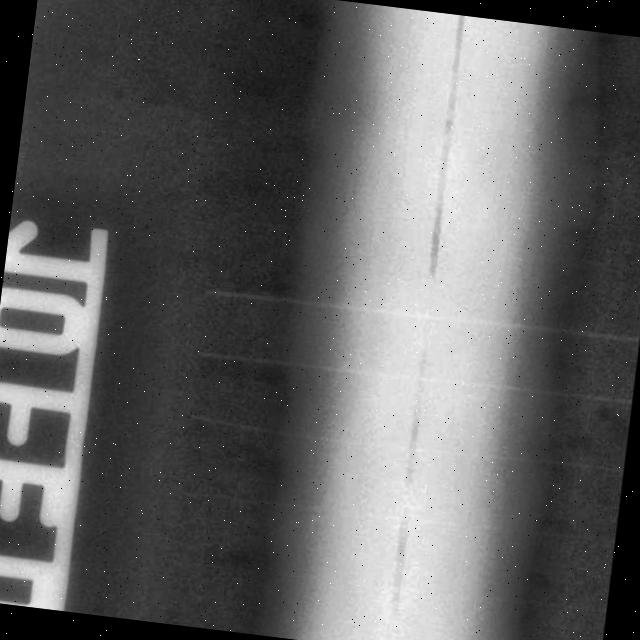LoP-LoF: (355, 11, 491, 640)
